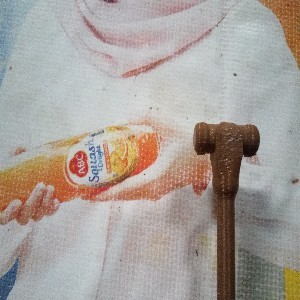palu: (192, 120, 261, 300)
